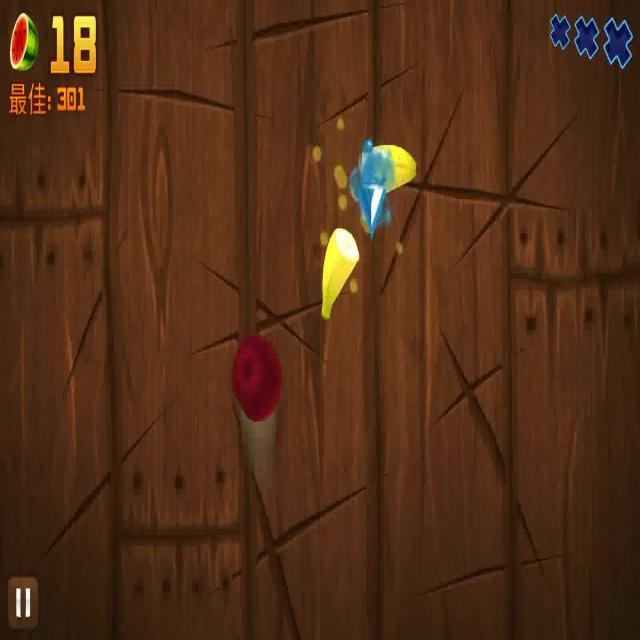fruit: (234, 332, 278, 419), (356, 144, 423, 193), (322, 226, 356, 316)
